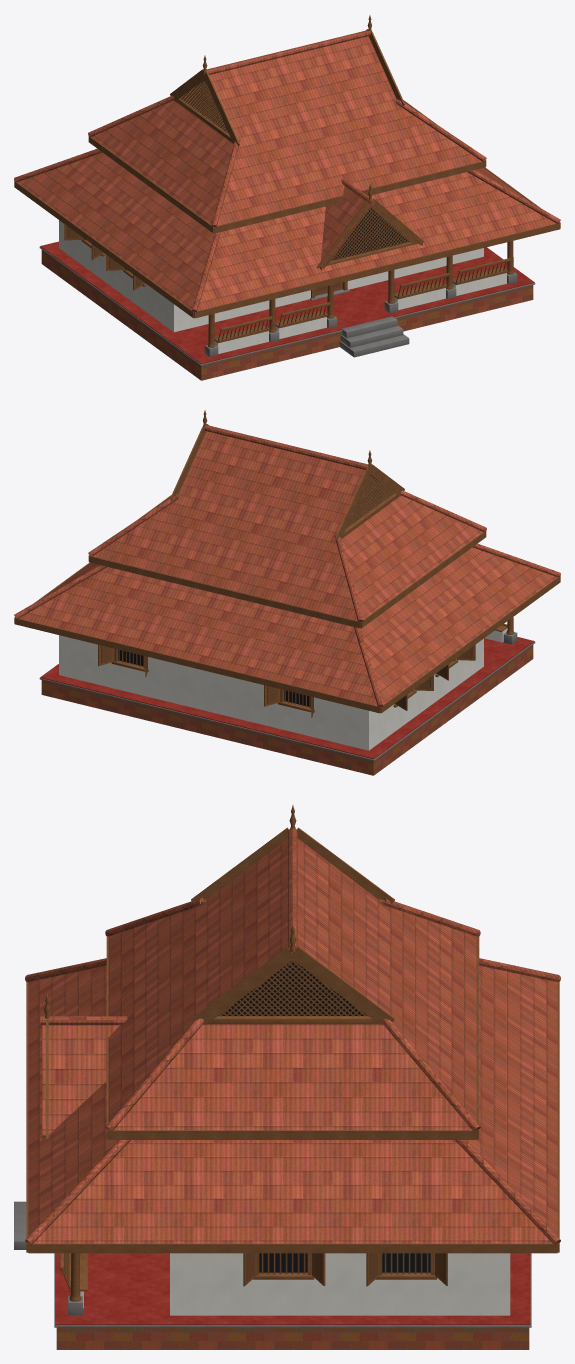
Rendered from tamil-village-house.glb.
3 views of the same model, one above another, from view 1: azimuth 30°, elevation 25°; view 2: azimuth 150°, elevation 25°; view 3: azimuth 270°, elevation 25° (orthographic). The views are drawn at different scales.
Visible parts, largest first — view 1: Kerala house - Clay roof tiles, terracotta, Kerala house - Teak timber (pillars, beams, frames, bars, bo, Kerala house - Red oxide floor, Kerala house - Lime-washed walls, white, Kerala house - Laterite plinth blocks, Kerala house - Granite steps and pedestals, Kerala house - Dark roof space behind the vents, Kerala house - Teak panelled doors and shutters; view 2: Kerala house - Clay roof tiles, terracotta, Kerala house - Lime-washed walls, white, Kerala house - Teak timber (pillars, beams, frames, bars, bo, Kerala house - Laterite plinth blocks, Kerala house - Red oxide floor, Kerala house - Teak panelled doors and shutters, Kerala house - Granite steps and pedestals, Kerala house - Dark window glass; view 3: Kerala house - Clay roof tiles, terracotta, Kerala house - Teak timber (pillars, beams, frames, bars, bo, Kerala house - Lime-washed walls, white, Kerala house - Red oxide floor, Kerala house - Laterite plinth blocks, Kerala house - Granite steps and pedestals, Kerala house - Dark roof space behind the vents, Kerala house - Dark window glass, Kerala house - Teak panelled doors and shutters.
Boxes of the visible parts, <box> form: Kerala house - Clay roof tiles, terracotta: <box>14,30,560,312</box>; Kerala house - Teak timber (pillars, beams, frames, bars, bo: <box>14,15,560,347</box>; Kerala house - Red oxide floor: <box>40,241,534,364</box>; Kerala house - Lime-washed walls, white: <box>59,220,506,353</box>; Kerala house - Laterite plinth blocks: <box>41,250,533,380</box>; Kerala house - Granite steps and pedestals: <box>39,247,535,365</box>; Kerala house - Dark roof space behind the vents: <box>181,80,409,259</box>; Kerala house - Teak panelled doors and shutters: <box>64,224,342,295</box>; Kerala house - Clay roof tiles, terracotta: <box>14,425,560,707</box>; Kerala house - Lime-washed walls, white: <box>59,628,506,750</box>; Kerala house - Teak timber (pillars, beams, frames, bars, bo: <box>14,410,560,717</box>; Kerala house - Laterite plinth blocks: <box>41,645,533,775</box>; Kerala house - Red oxide floor: <box>40,637,534,759</box>; Kerala house - Teak panelled doors and shutters: <box>98,645,475,716</box>; Kerala house - Granite steps and pedestals: <box>39,632,535,760</box>; Kerala house - Dark window glass: <box>118,650,310,706</box>; Kerala house - Clay roof tiles, terracotta: <box>25,828,560,1244</box>; Kerala house - Teak timber (pillars, beams, frames, bars, bo: <box>26,805,559,1301</box>; Kerala house - Lime-washed walls, white: <box>80,1253,510,1315</box>; Kerala house - Red oxide floor: <box>55,1253,530,1325</box>; Kerala house - Laterite plinth blocks: <box>56,1327,529,1349</box>; Kerala house - Granite steps and pedestals: <box>14,1201,531,1327</box>; Kerala house - Dark roof space behind the vents: <box>218,961,367,1015</box>; Kerala house - Dark window glass: <box>259,1253,430,1272</box>; Kerala house - Teak panelled doors and shutters: <box>244,1253,446,1285</box>.
Bounding box in the file's own units: 13.34 × 8.55 × 11.57.
9 materials, 9 textured.
